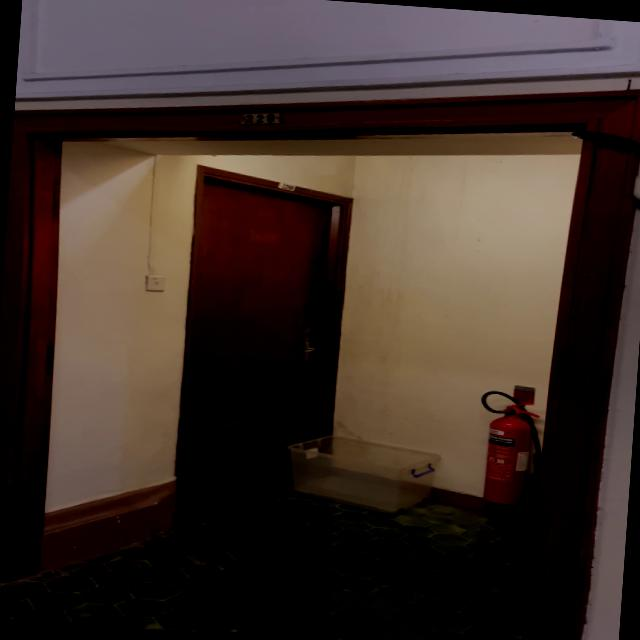room229: (238, 109, 282, 127)
